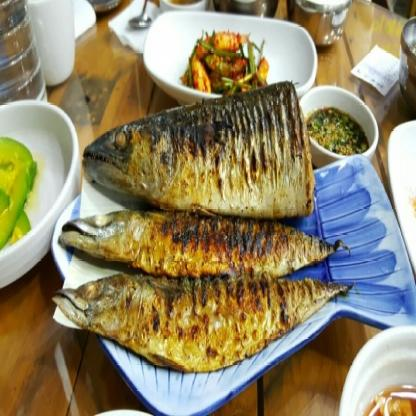Peixe: (78, 94, 343, 380)
